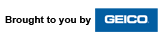Geico: (103, 11, 149, 24)
